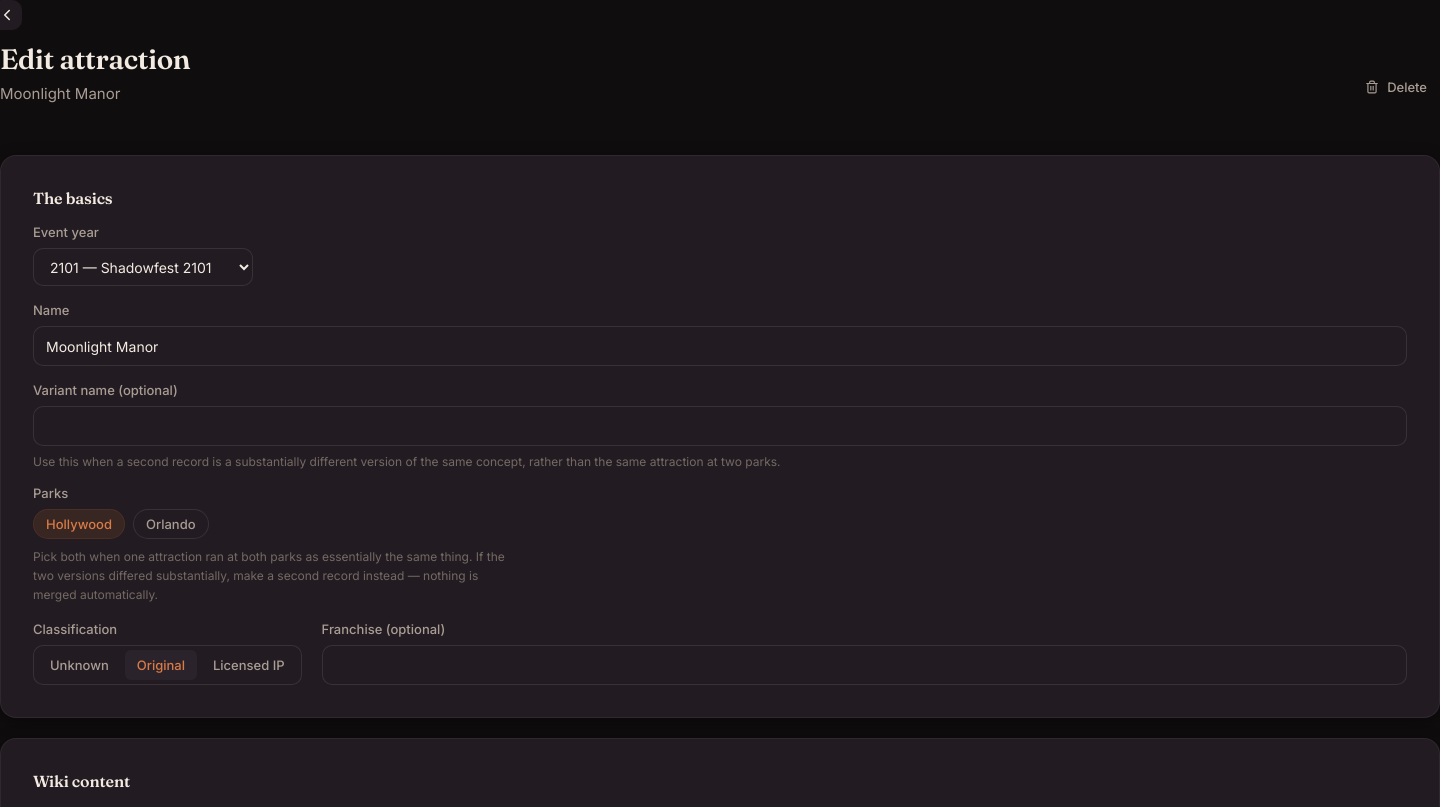
Scenario: AttractionEditor › deleting › stays put and explains when the delete is rejected
This screenshot has width=1440, height=807.
What coordinates should you click on to do the following:
click the button "Delete"
I would click on:
 (1396, 87)
Its box is [1352,71,1439,103].
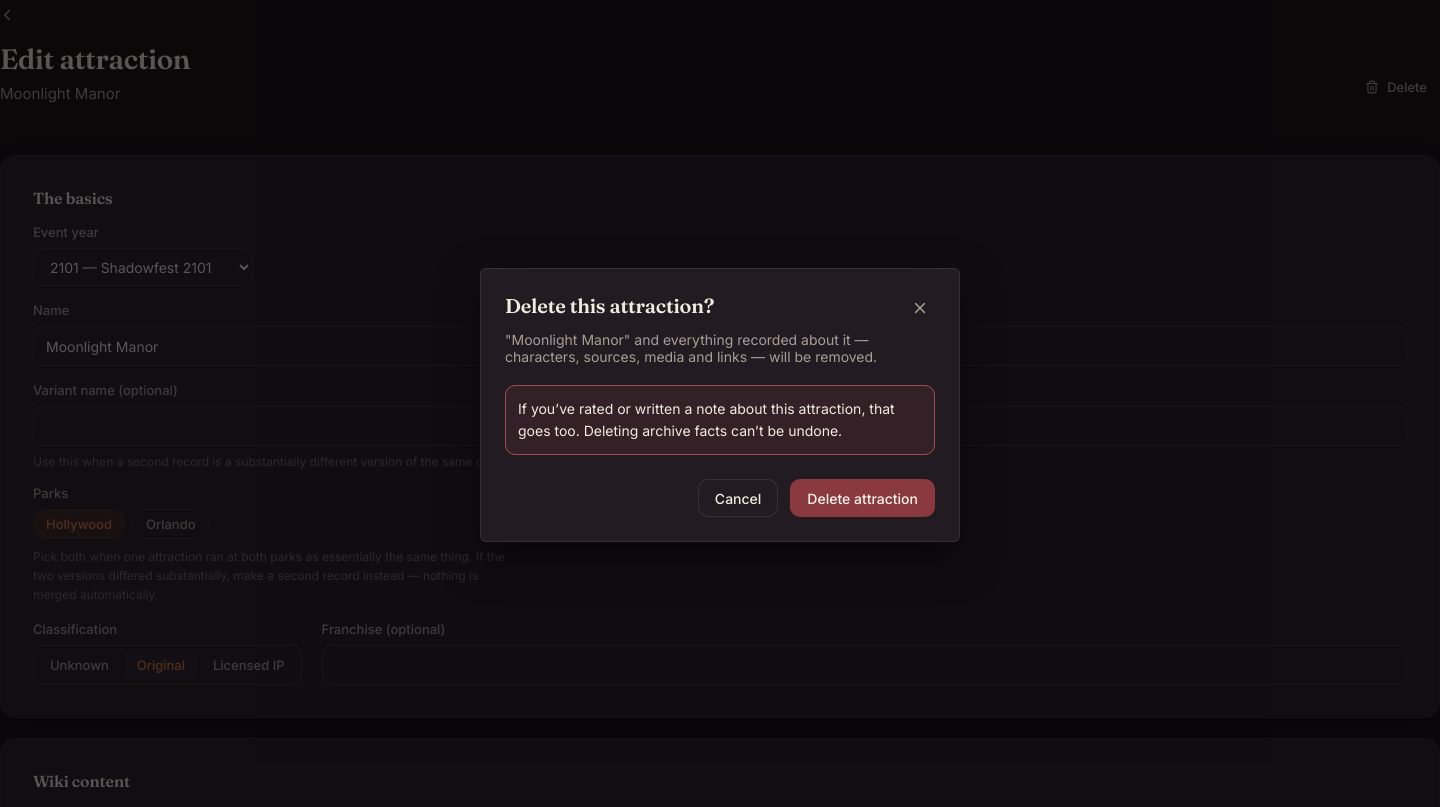
What coordinates should you click on to do the following:
click the button "Delete attraction"
I would click on:
 (863, 498)
Its box is [790,479,935,517].
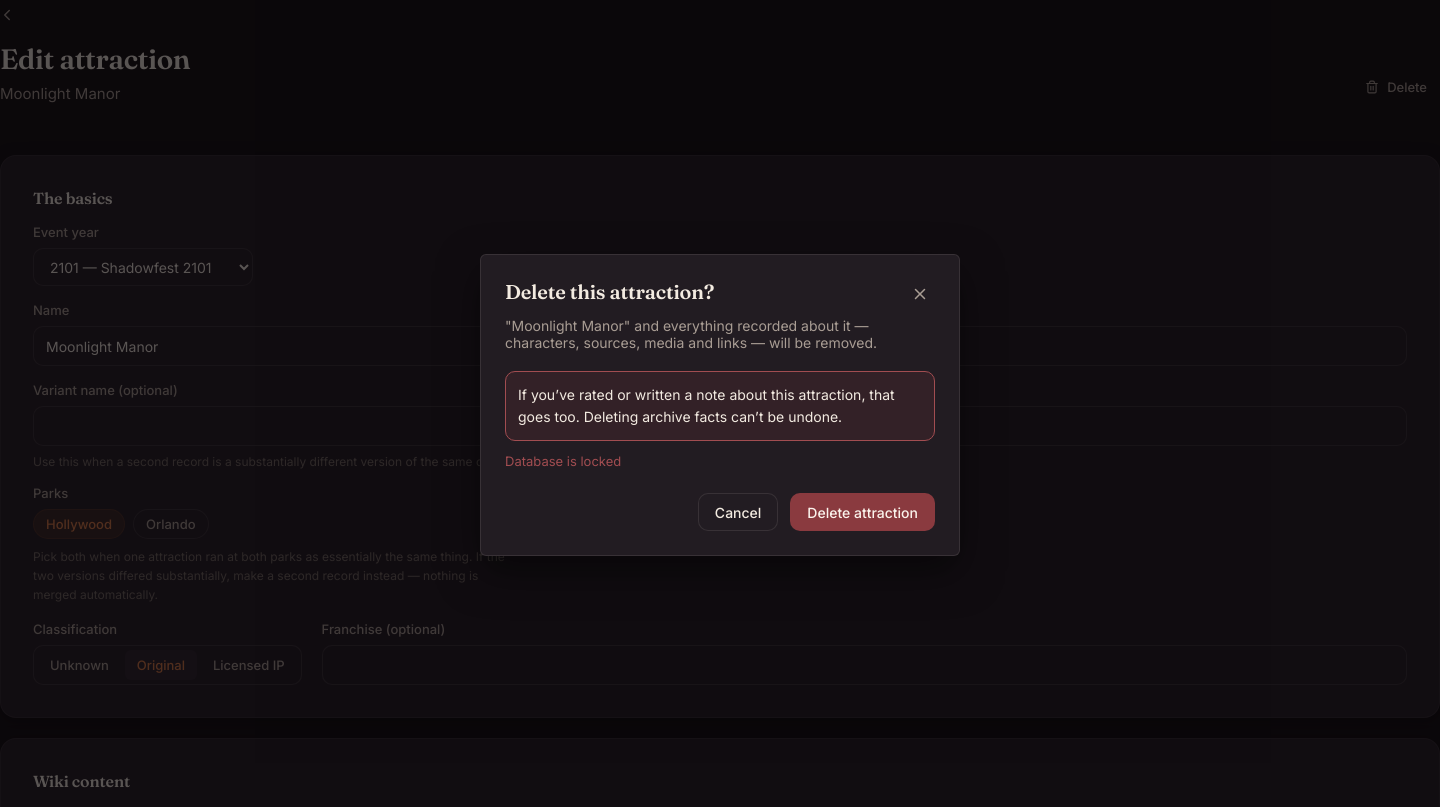
Result: the text "Database is locked" is shown at [505,453,621,469]
